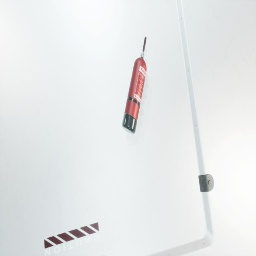FireExtinguisher ]: (122, 37, 147, 134)
